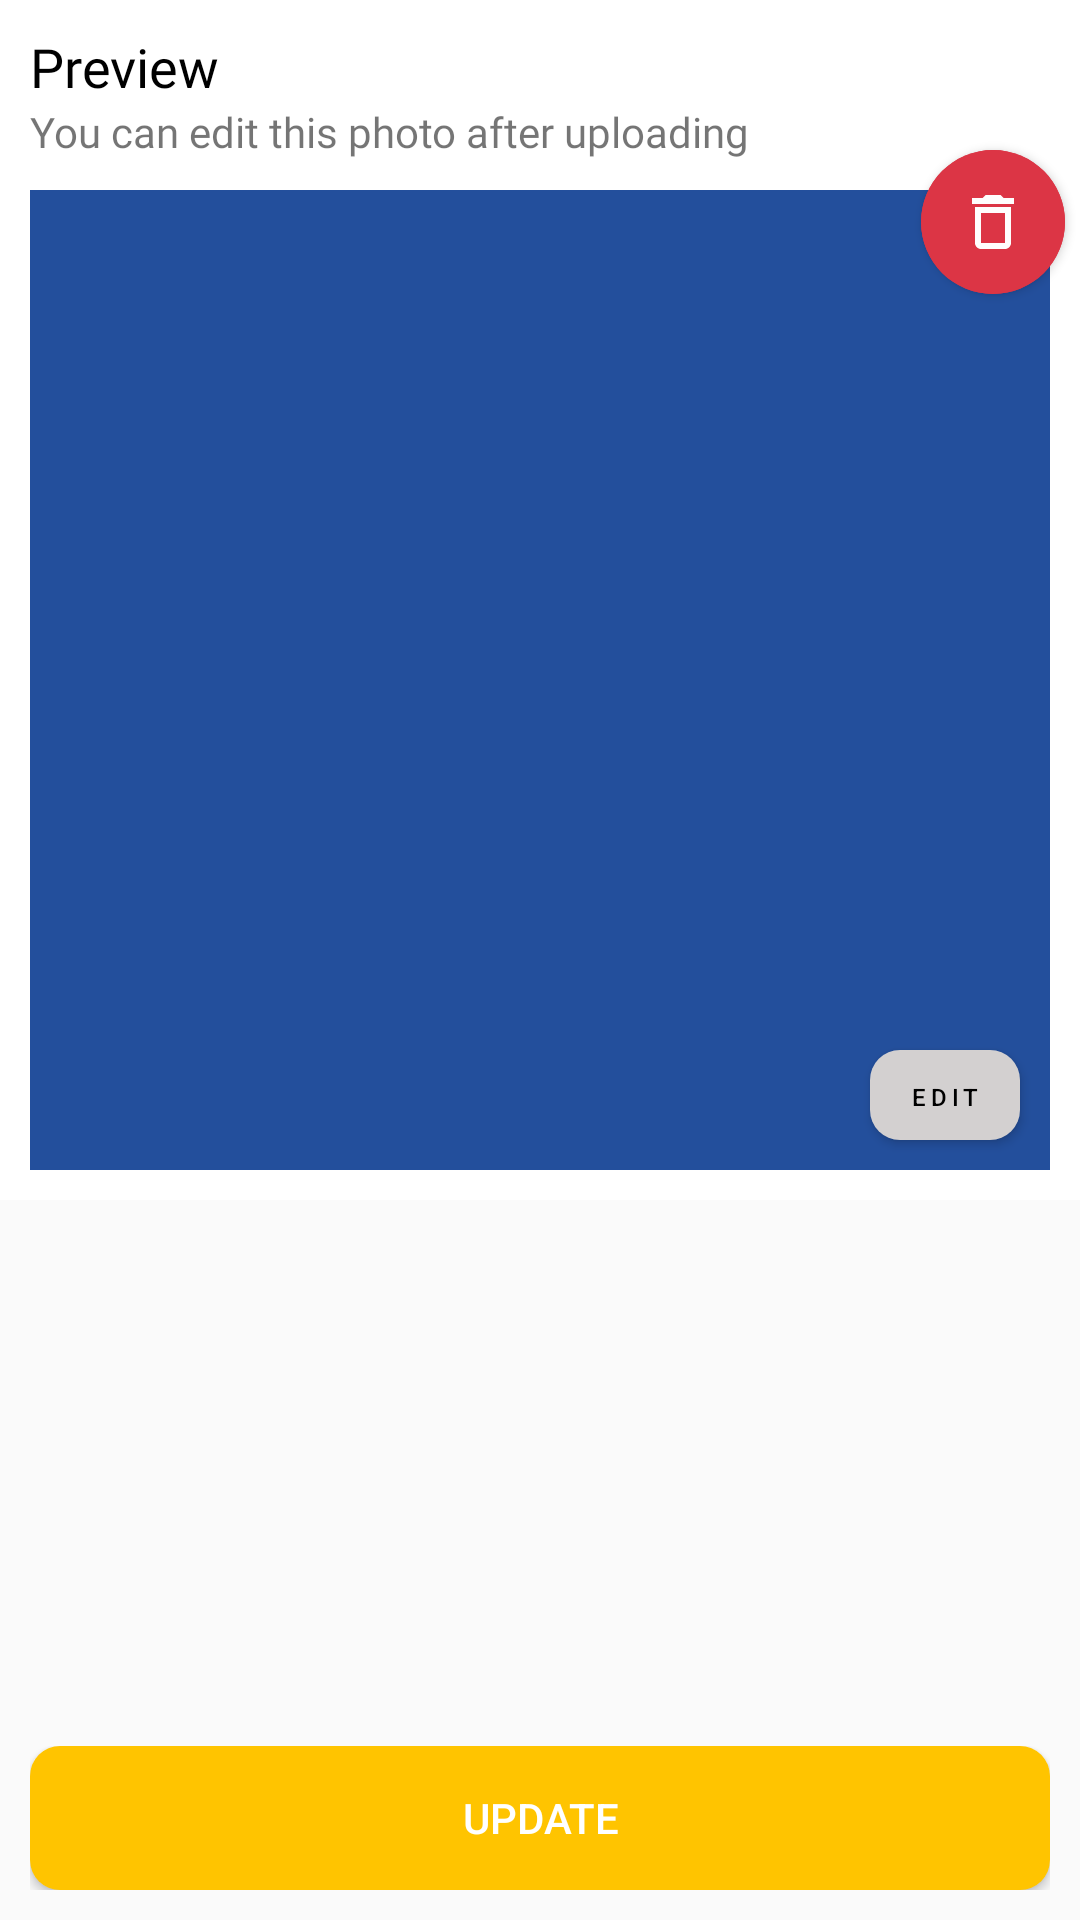

Named icons in this screenshot (1080px x 1920px) and their centers, point (x, y):
delete: point (993, 222)
